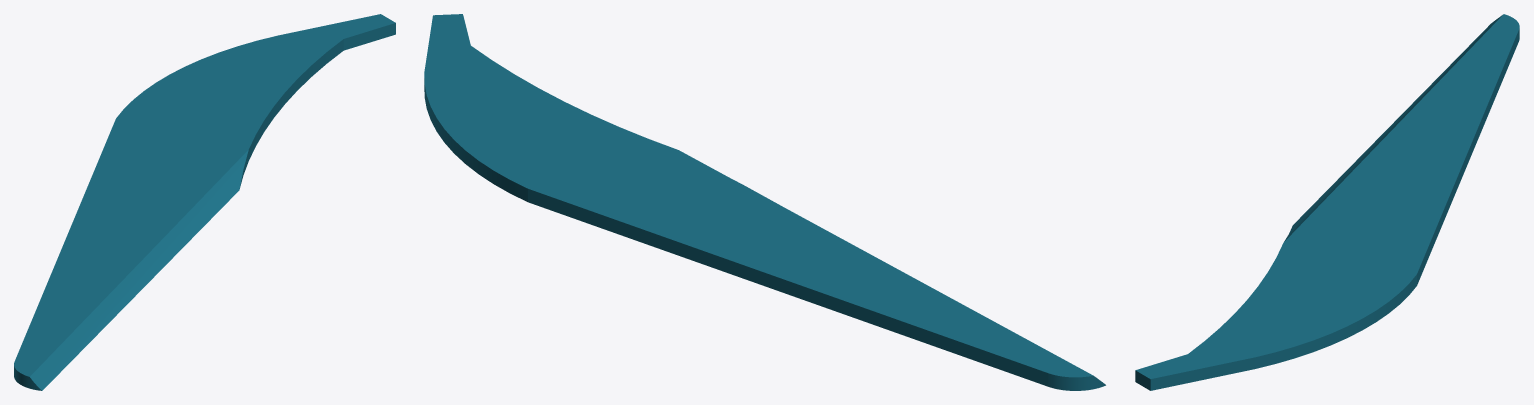
Rendered from original-9.obj.
3 renders of one model, left to right at view 1: azimuth 90°, elevation 25°; view 2: azimuth 150°, elevation 25°; view 3: azimuth 270°, elevation 25°, orthographic. The views are drawn at different scales.
Parts seen in each view (by area): view 1: mesh8/mesh8-geometry#mesh8-geometry; view 2: mesh8/mesh8-geometry#mesh8-geometry; view 3: mesh8/mesh8-geometry#mesh8-geometry.
Boxes of the visible parts, x1,y1,x2,y2 form: mesh8/mesh8-geometry#mesh8-geometry: (14, 14, 395, 390); mesh8/mesh8-geometry#mesh8-geometry: (424, 14, 1105, 390); mesh8/mesh8-geometry#mesh8-geometry: (1135, 14, 1519, 390).
Bounding box in the file's own units: 1.26 × 0.0188 × 0.5572.
